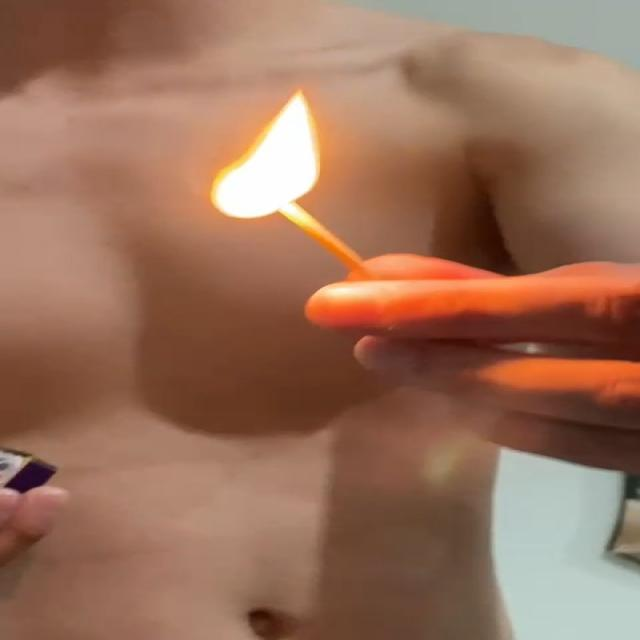fogo-ypXI: (205, 80, 324, 221)
